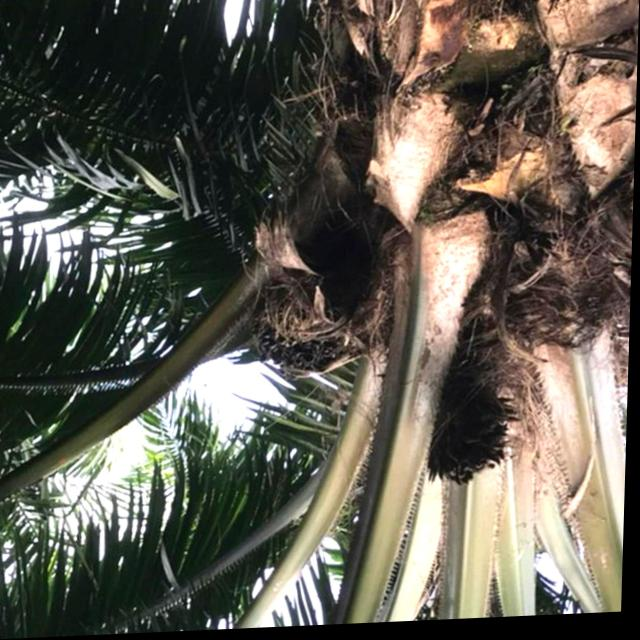almost: (250, 239, 396, 380)
